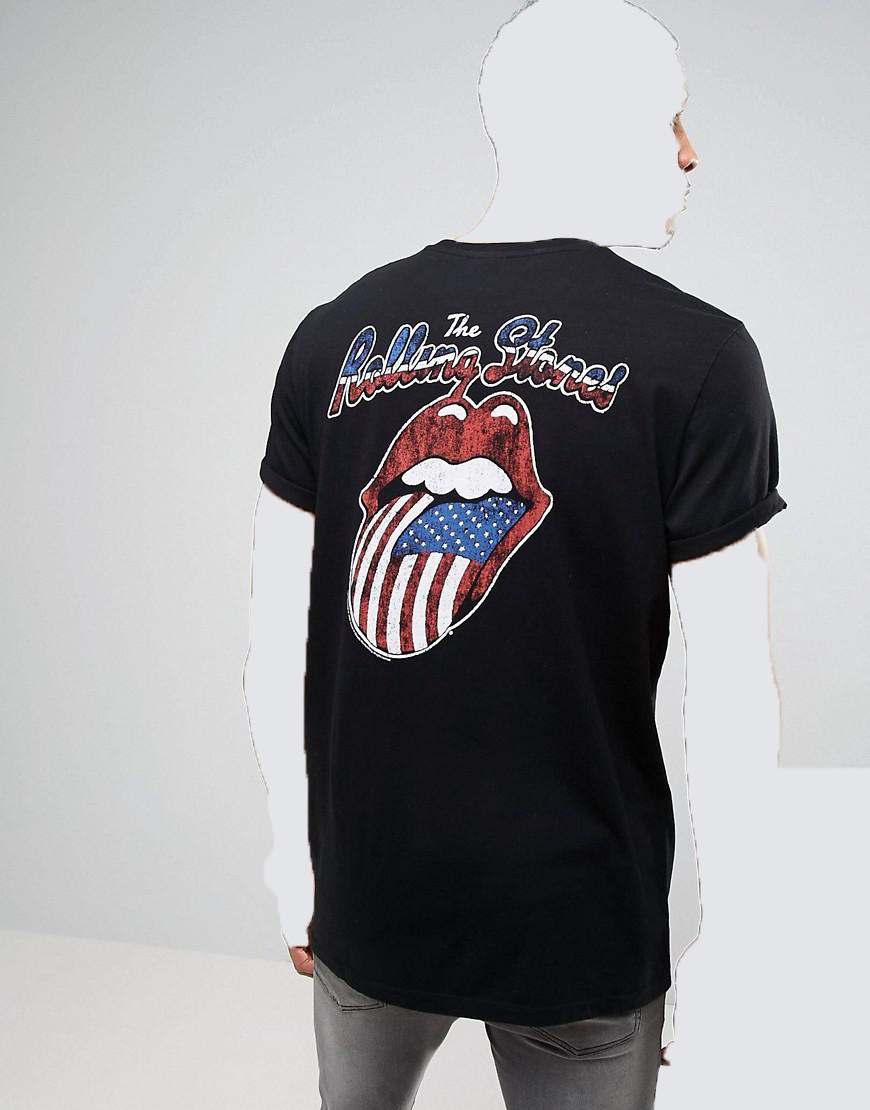teeshirt: (218, 234, 798, 1020)
